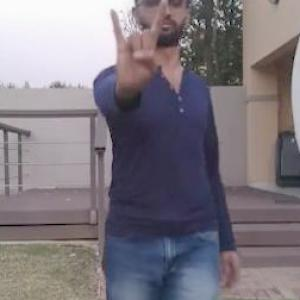takeoff-hand: (102, 0, 172, 86)
